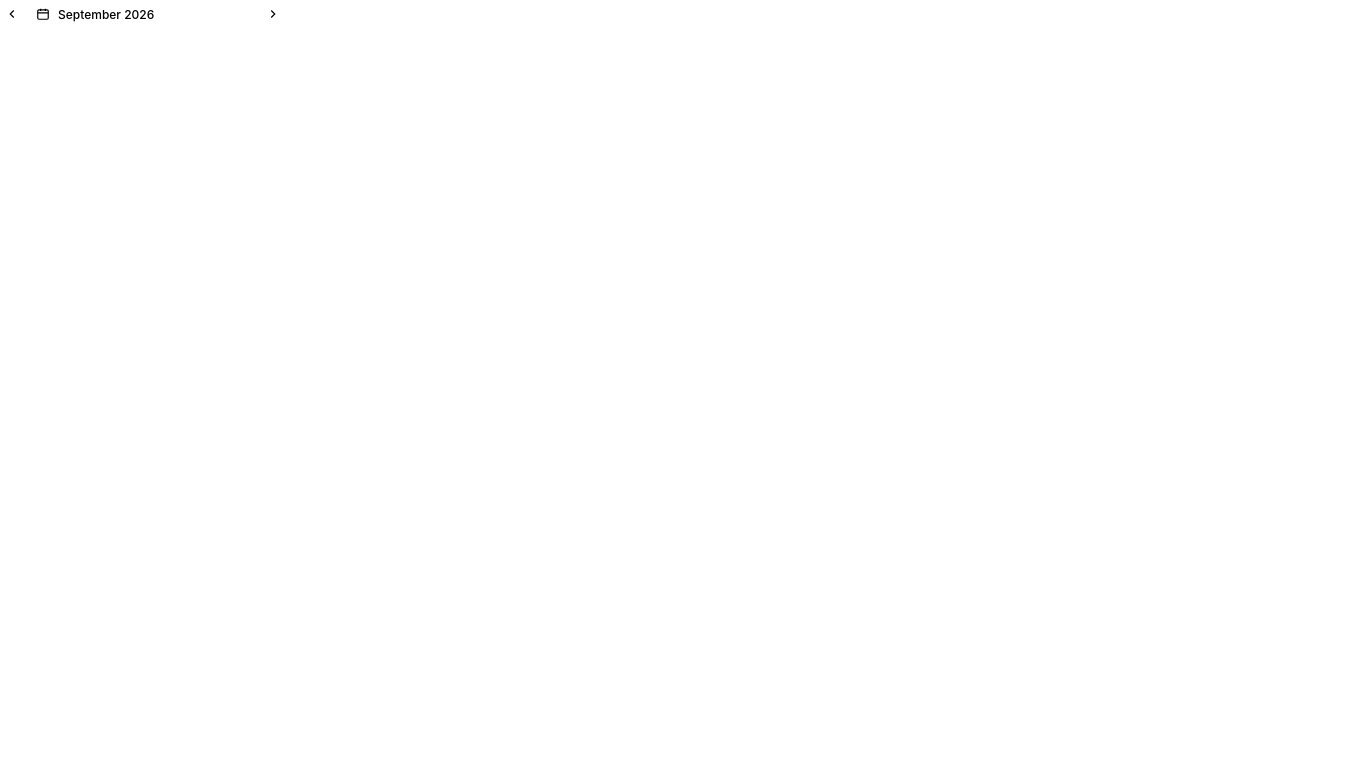
Test case: PeriodPicker: Enter підтверджує — blur і назва › після Enter кнопка › далі крокує від підтвердженого періоду
Click the field named "⟦documents.period⟧" at (154, 14), box [57,0,251,28]
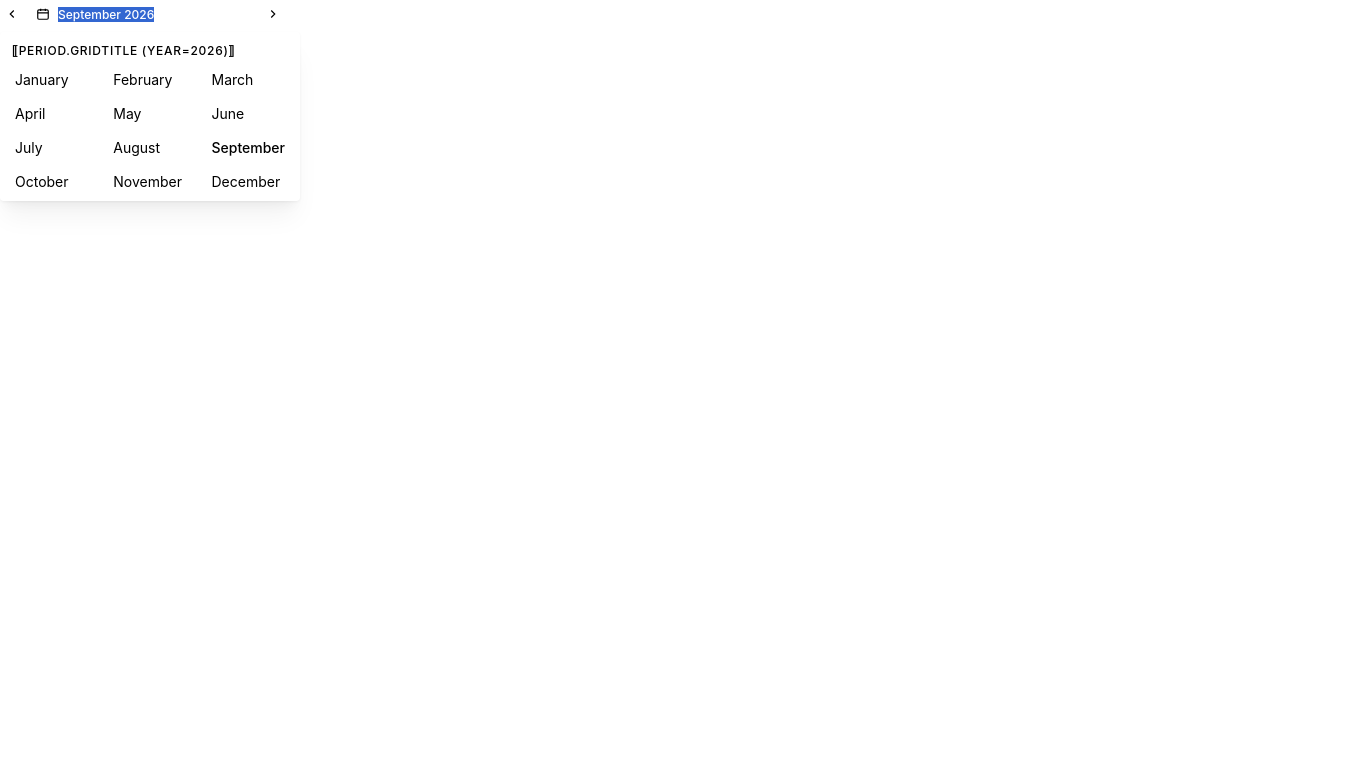
Type keys "202610{Enter}"
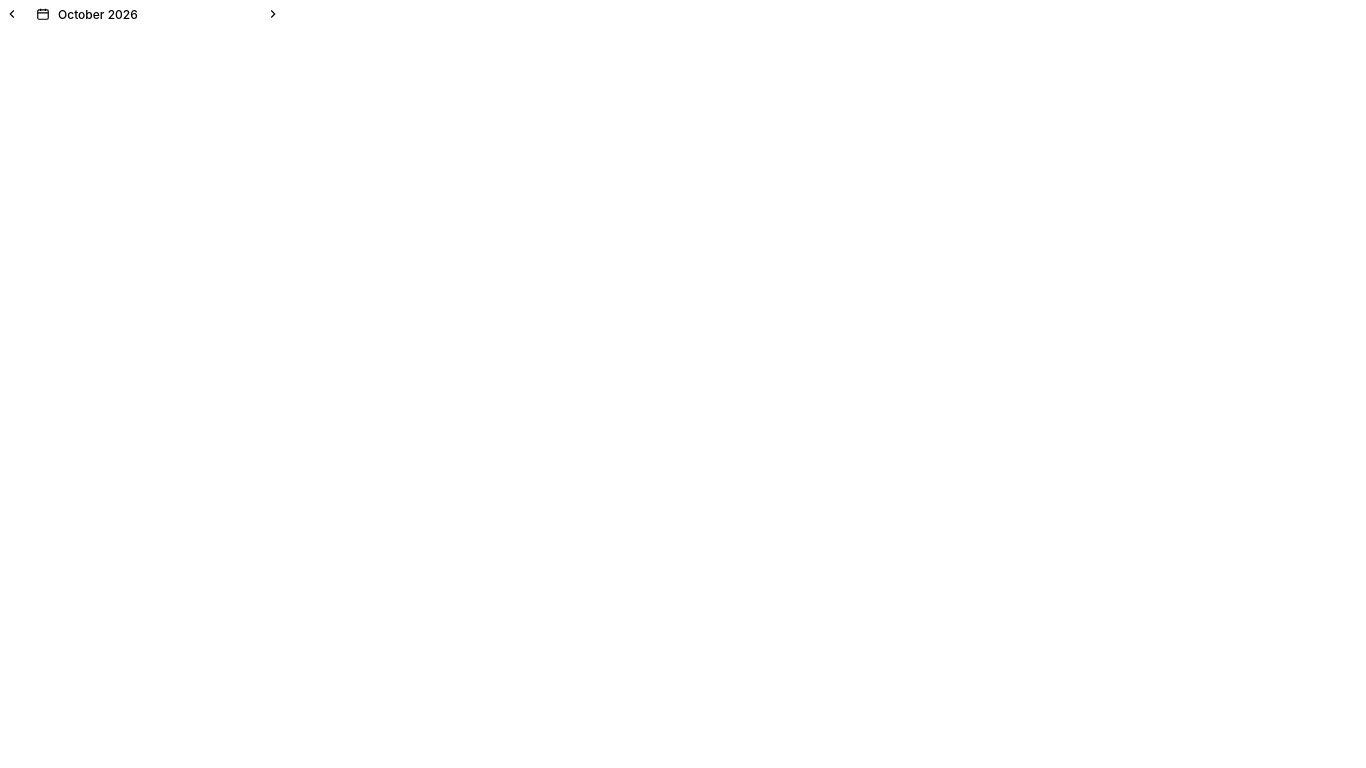
Click the button named "⟦period.next⟧" at (273, 14), box [261,0,285,28]
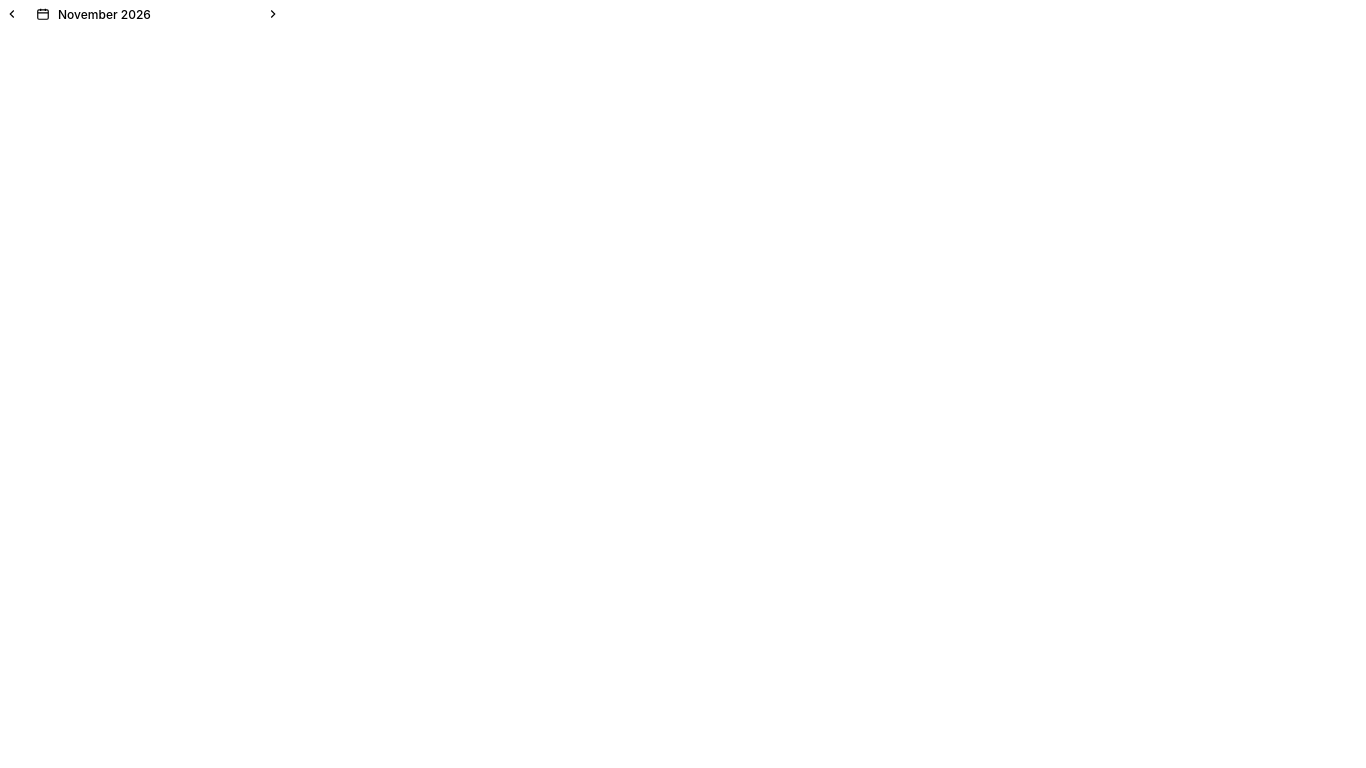
expect the field named "⟦documents.period⟧" holds "November 2026": met, box [57,0,251,28]
